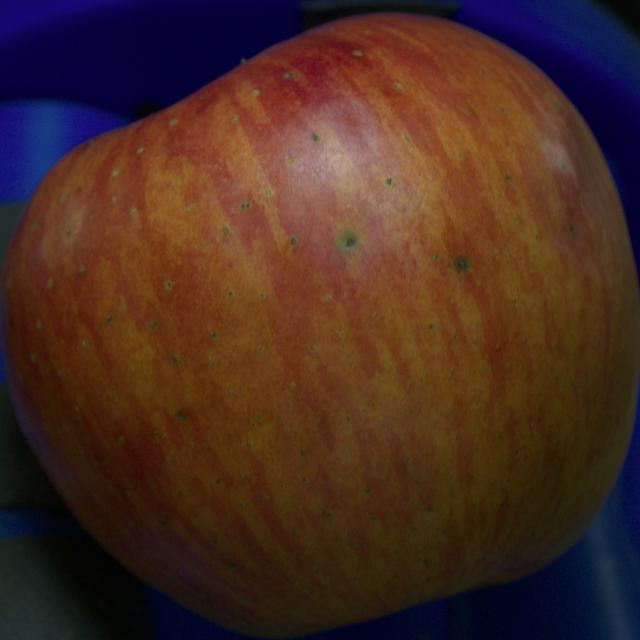apple: (0, 14, 639, 637)
pest: (453, 256, 469, 272), (346, 238, 356, 248), (176, 411, 186, 421)
